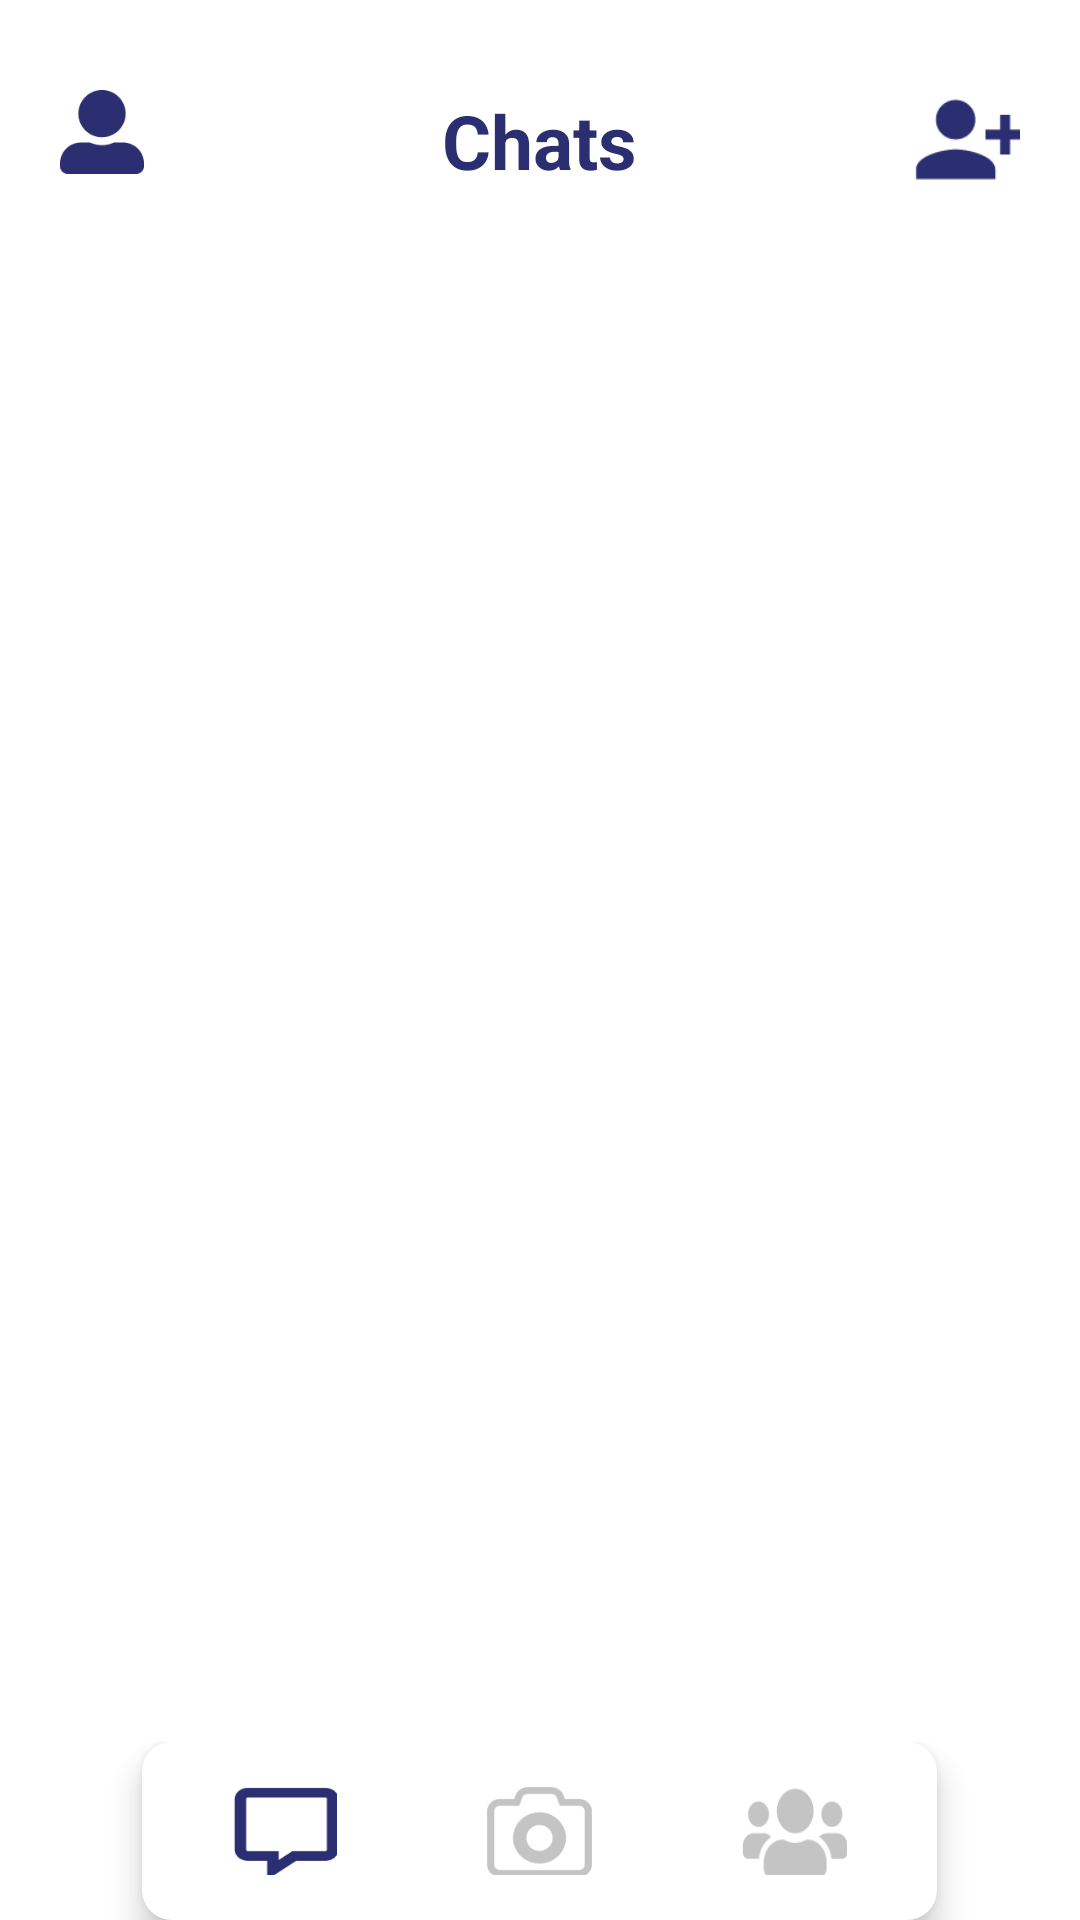

Named icons in this screenshot (1080 × 1920) and their bounding boxes, rect(x1, y1, x2, y2):
camera: rect(487, 1787, 592, 1875)
chat highlighted: rect(234, 1788, 337, 1875)
profile: rect(60, 90, 144, 174)
